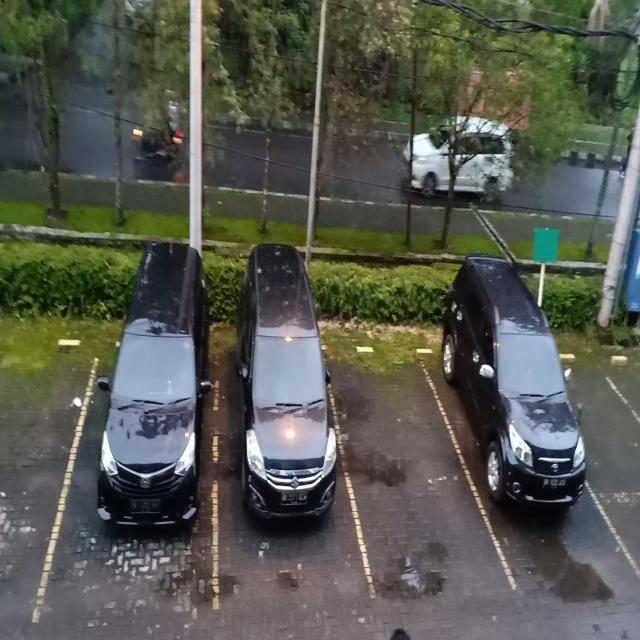empty: (340, 342, 460, 596), (578, 338, 638, 572)
occupied: (68, 304, 220, 610), (212, 324, 354, 610), (449, 315, 591, 583)
